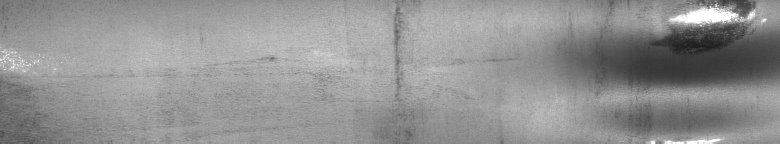ke: (652, 4, 767, 48)
